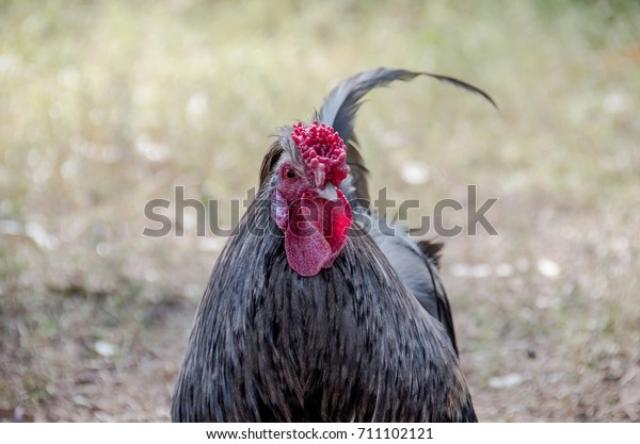Chicken: (171, 68, 479, 422)
